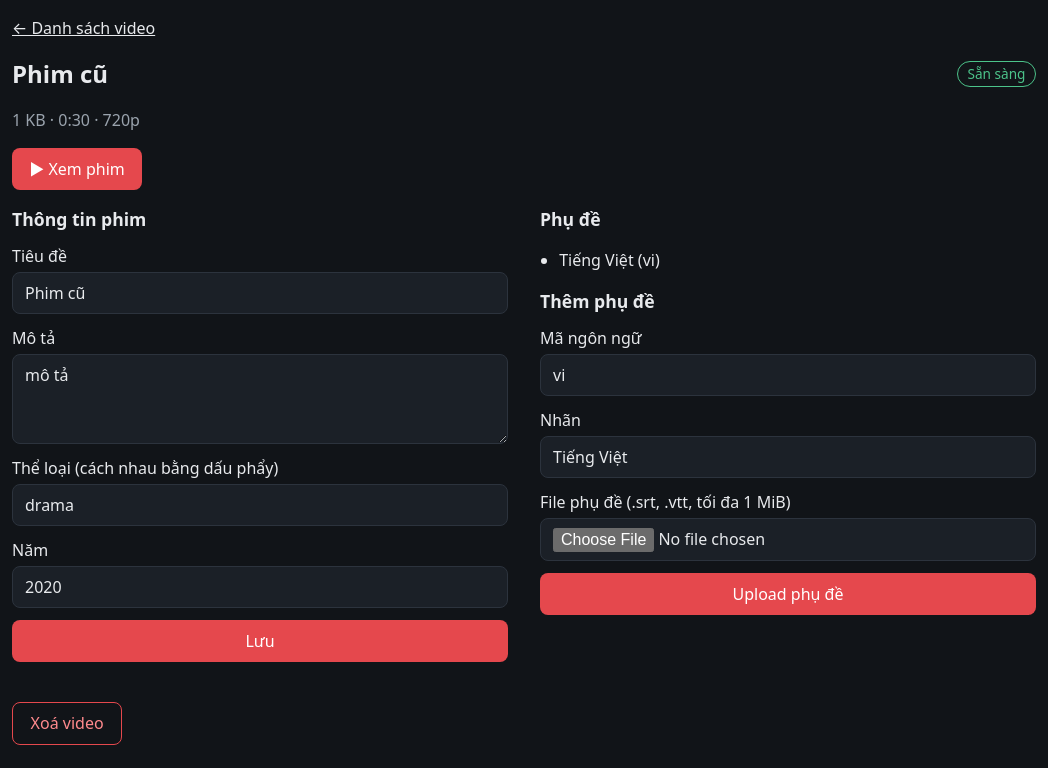
Test case: AdminVideoPage › hiện chi tiết, sửa metadata gửi PATCH đủ field
Expected: the heading "Phim cũ" is shown, x1=12 y1=56 x2=108 y2=92
Expected: the text "1 KB · 0:30 · 720p" is shown, x1=12 y1=109 x2=140 y2=131
Replace the text in the field labelled "Tiêu đề" with " Phim mới " at (260, 293), box x1=12 y1=272 x2=508 y2=314
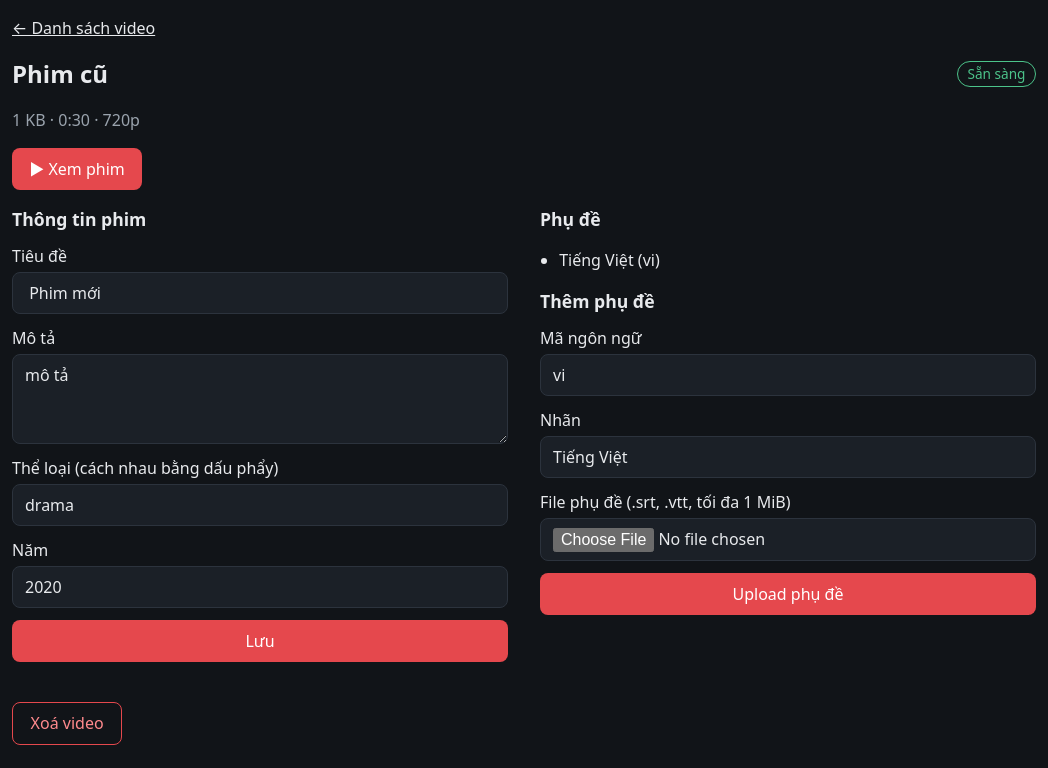
Replace the text in the field labelled "Thể loại (cách nhau bằng dấu phẩy)" with "drama, hài, " at (260, 505), box x1=12 y1=484 x2=508 y2=526
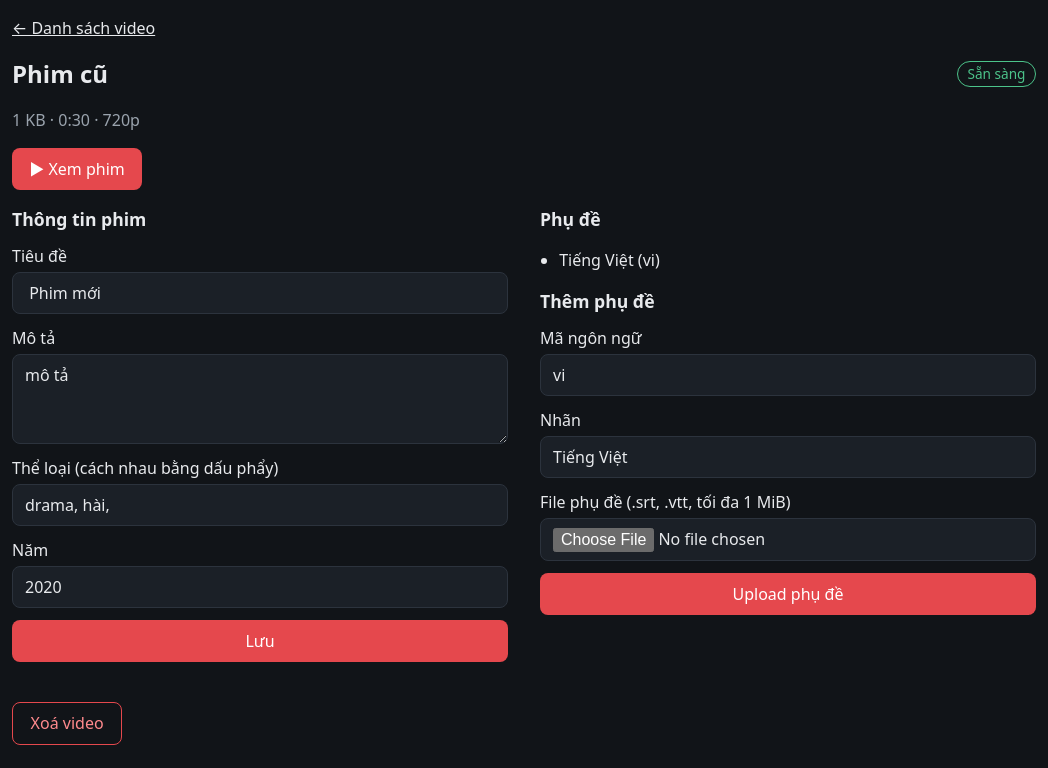
Clear the field labelled "Năm" at (260, 587), box x1=12 y1=566 x2=508 y2=608
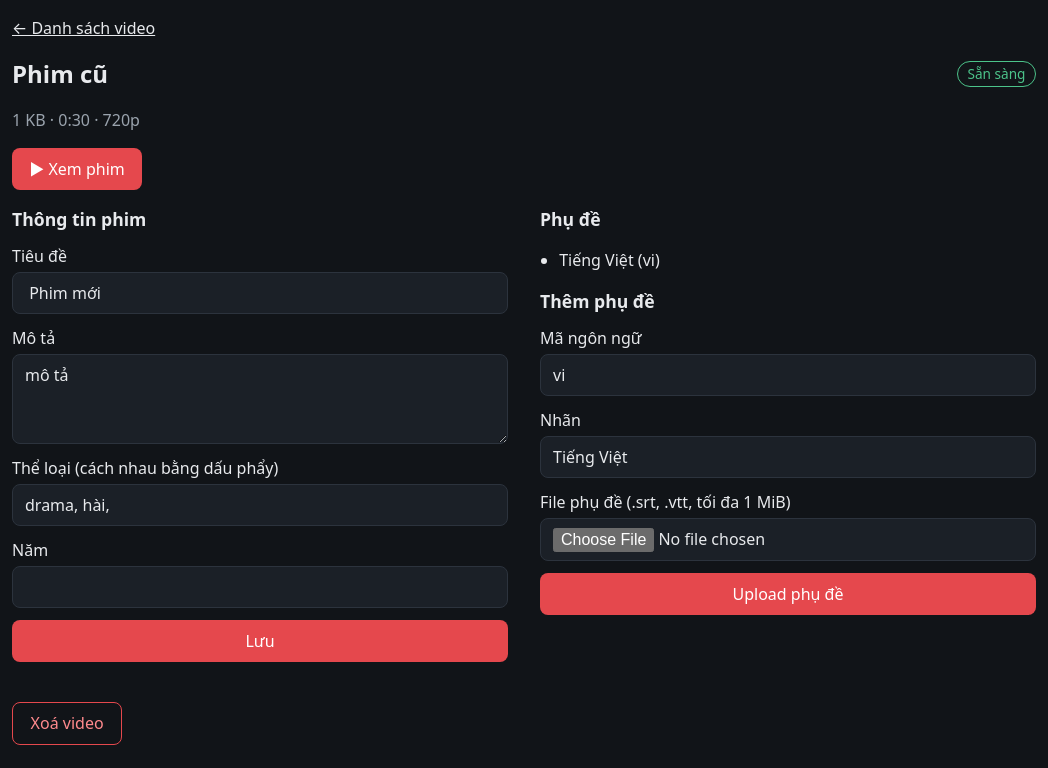
Click the button "Lưu" at (260, 641), box x1=12 y1=620 x2=508 y2=662
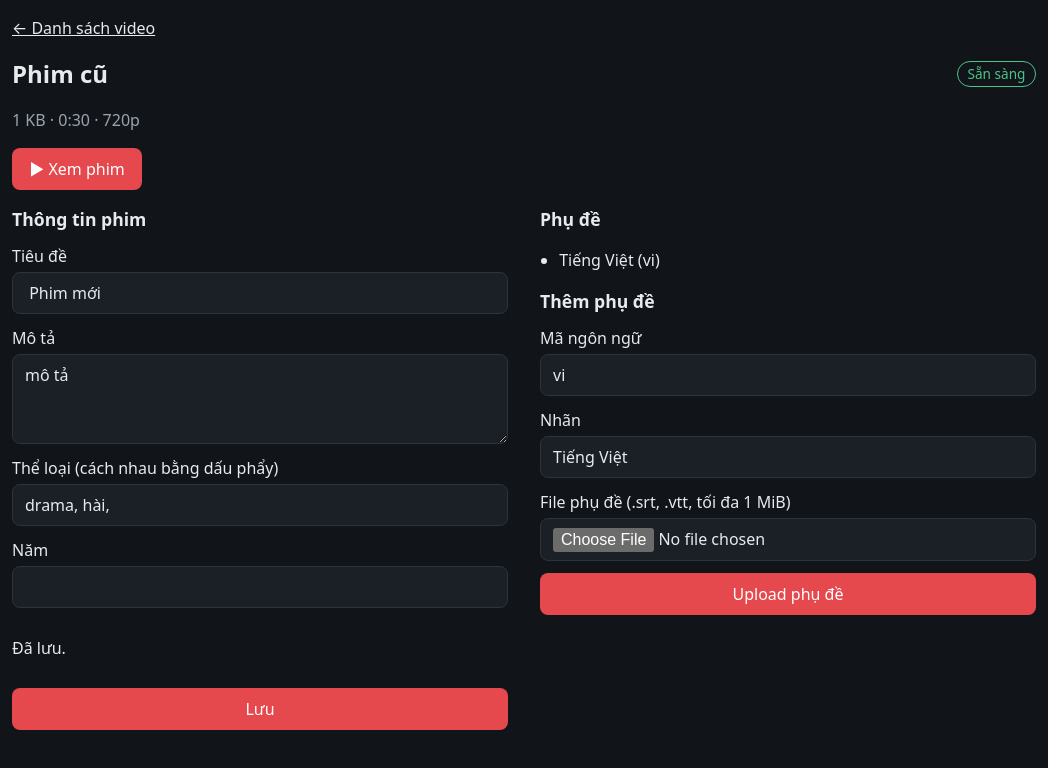
Now the text "Đã lưu." is shown, box x1=12 y1=637 x2=66 y2=659
